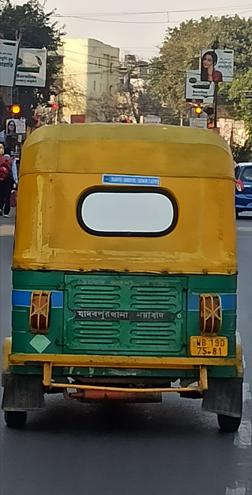Auto: (6, 117, 246, 434)
